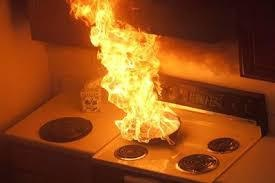fire: (72, 0, 185, 149)
